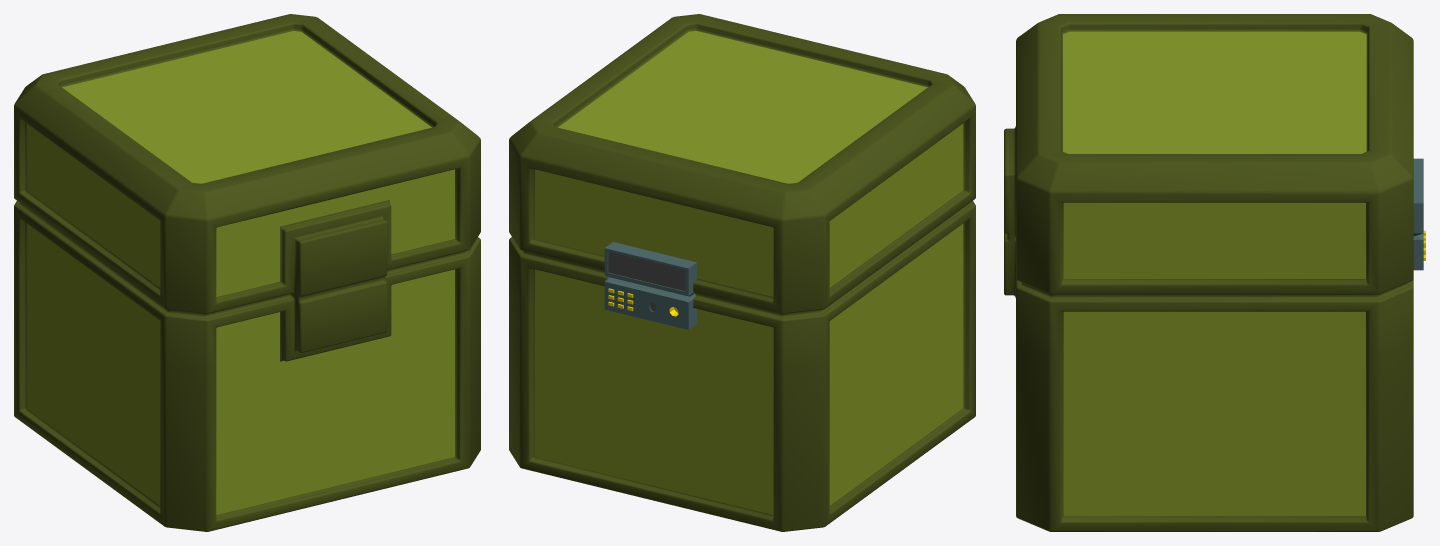
Rendered from Cassa2.fbx.
3 renders of one model, left to right at view 1: azimuth 30°, elevation 25°; view 2: azimuth 150°, elevation 25°; view 3: azimuth 270°, elevation 25°, orthographic. The views are drawn at different scales.
Parts seen in each view (by area): view 1: InsertiCassa, Cassa; view 2: InsertiCassa, Cassa, SecurityLock, LCD; view 3: InsertiCassa, Cassa, SecurityLock.
Boxes of the visible parts, x1,y1,x2,y2 form: InsertiCassa: (26, 31, 454, 514); Cassa: (14, 14, 480, 531); InsertiCassa: (535, 31, 963, 514); Cassa: (509, 14, 975, 531); SecurityLock: (604, 242, 696, 329); LCD: (608, 251, 685, 291); InsertiCassa: (1063, 31, 1366, 516); Cassa: (1004, 14, 1413, 531); SecurityLock: (1413, 158, 1423, 270).
Size of the model in its own units: 100 by 100 by 106.
